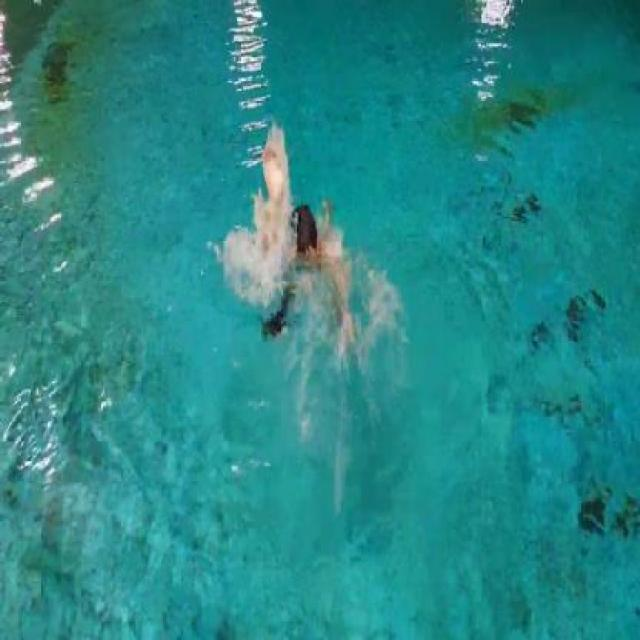drowning: (246, 114, 360, 386)
